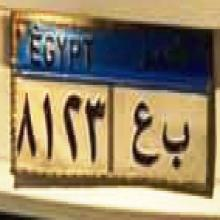1: (43, 86, 54, 171)
2: (62, 89, 82, 164)
3: (84, 92, 107, 164)
8: (15, 86, 34, 164)
ain: (133, 97, 158, 169)
baa: (158, 105, 196, 168)
